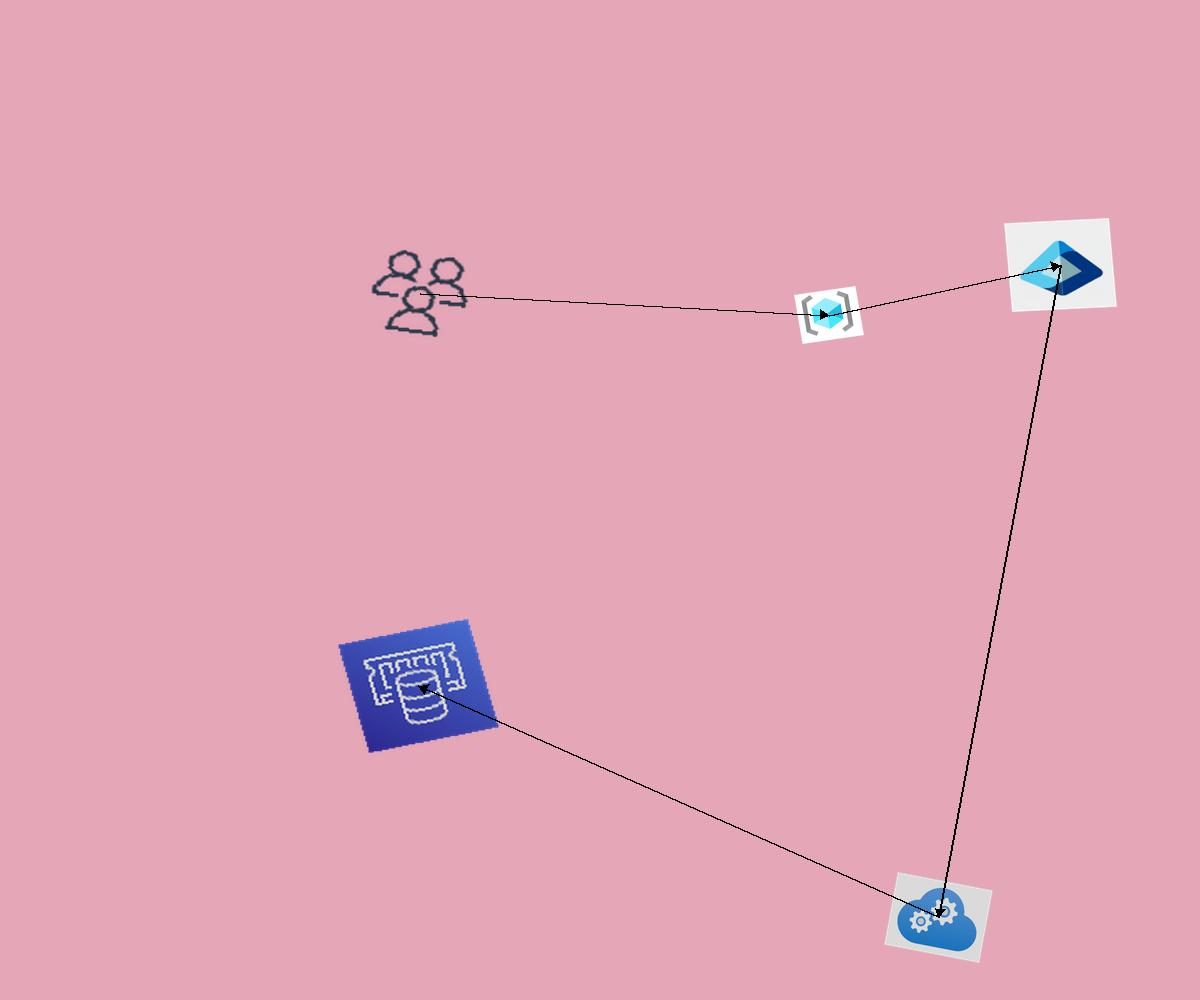AWS-ElastiCache: (337, 618, 500, 754)
AWS-Res_Users: (359, 243, 481, 344)
Azure_cloud_services: (884, 872, 993, 963)
Azure_microsoft_entra: (1004, 218, 1117, 312)
Azure_resource_group: (794, 286, 864, 344)
